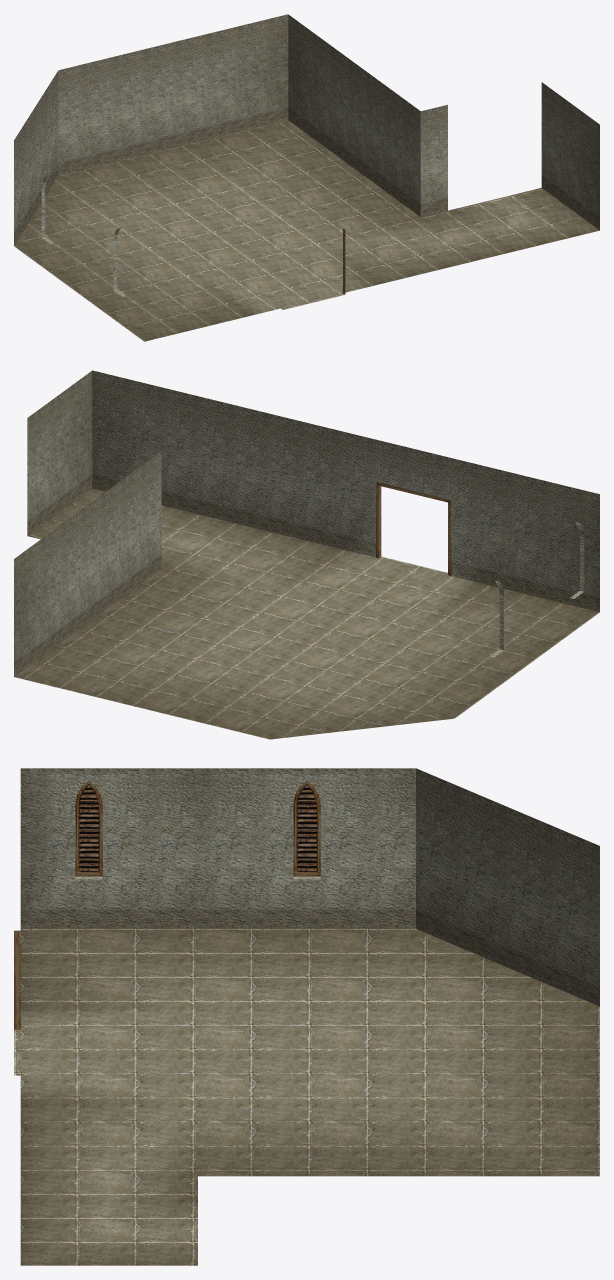
File: M5Z1_VillageInt_05.glb
3 renders of one model, top to bottom at view 1: azimuth 30°, elevation 25°; view 2: azimuth 150°, elevation 25°; view 3: azimuth 270°, elevation 25°, orthographic. The views are drawn at different scales.
Parts seen in each view (by area): view 1: M5Z1_VILLAGEINT_05; view 2: M5Z1_VILLAGEINT_05; view 3: M5Z1_VILLAGEINT_05.
Part boxes in pixels (<box>): M5Z1_VILLAGEINT_05: <box>14,14,599,341</box>; M5Z1_VILLAGEINT_05: <box>14,370,599,739</box>; M5Z1_VILLAGEINT_05: <box>14,768,599,1265</box>.
Bounding box in the file's own units: 14.75 × 3.25 × 10.75.
4 materials, 4 textured.
